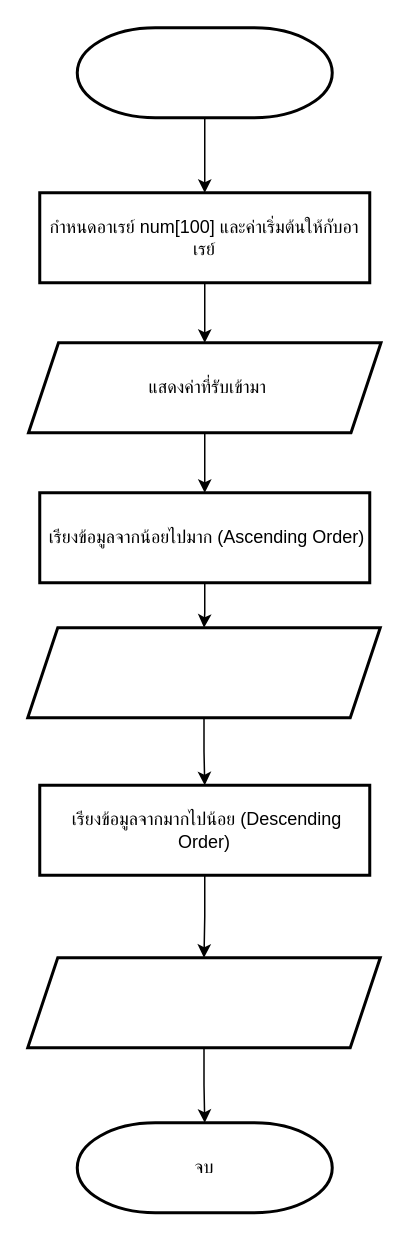
Image size: 408x1239. Some labels were removed from this diagram. Here are the shapes that lost their labels. From the top down, the centre of each, then its label:
At point 204,72: "เริ่ม".
At point 203,672: "แสดงผลข้อมูลที่เรียงจากน้อยไปมาก".
At point 203,1002: "แสดงผลข้อมูลที่เรียงจากมากไปน้อย".
